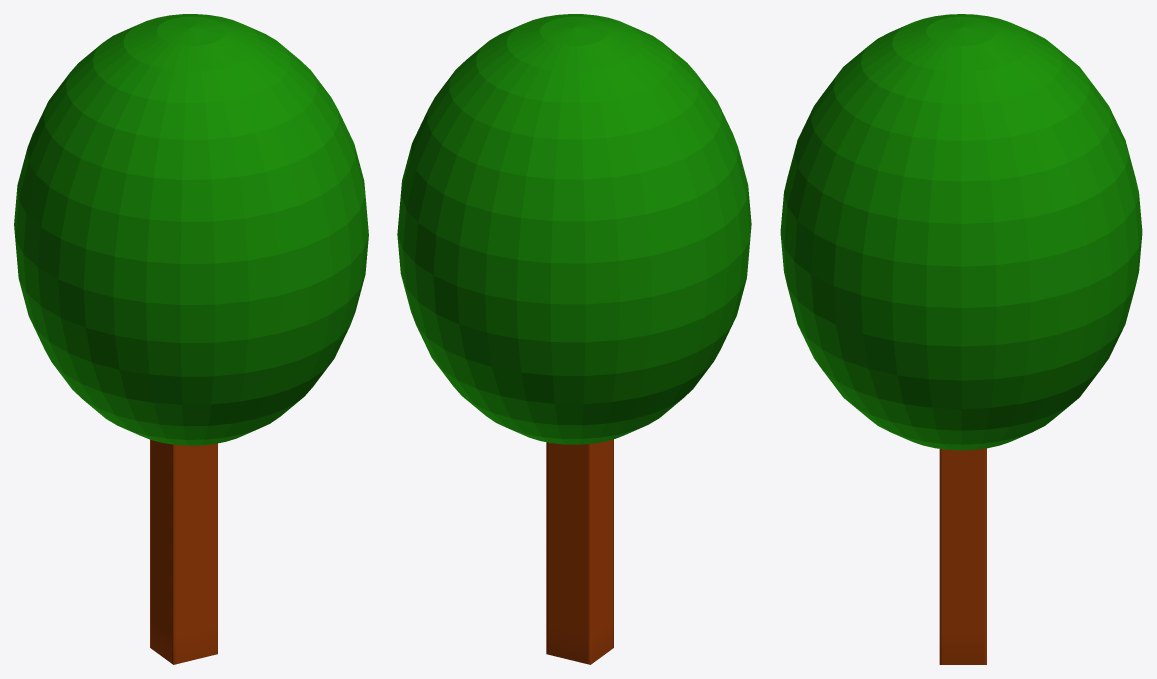
File: tree.gltf
3 views of the same model, side by side, from view 1: azimuth 30°, elevation 25°; view 2: azimuth 150°, elevation 25°; view 3: azimuth 270°, elevation 25° (orthographic).
Parts seen in each view (by area): view 1: Sphere, Cube; view 2: Sphere, Cube; view 3: Sphere, Cube.
Part boxes in pixels (left/top/right/bottom): Sphere: left=14, top=14, right=368, bottom=445; Cube: left=150, top=439, right=217, bottom=664; Sphere: left=397, top=14, right=751, bottom=444; Cube: left=546, top=439, right=613, bottom=664; Sphere: left=780, top=14, right=1142, bottom=450; Cube: left=939, top=448, right=986, bottom=664.
Bounding box in the file's own units: 4.3 × 8.32 × 4.33.
